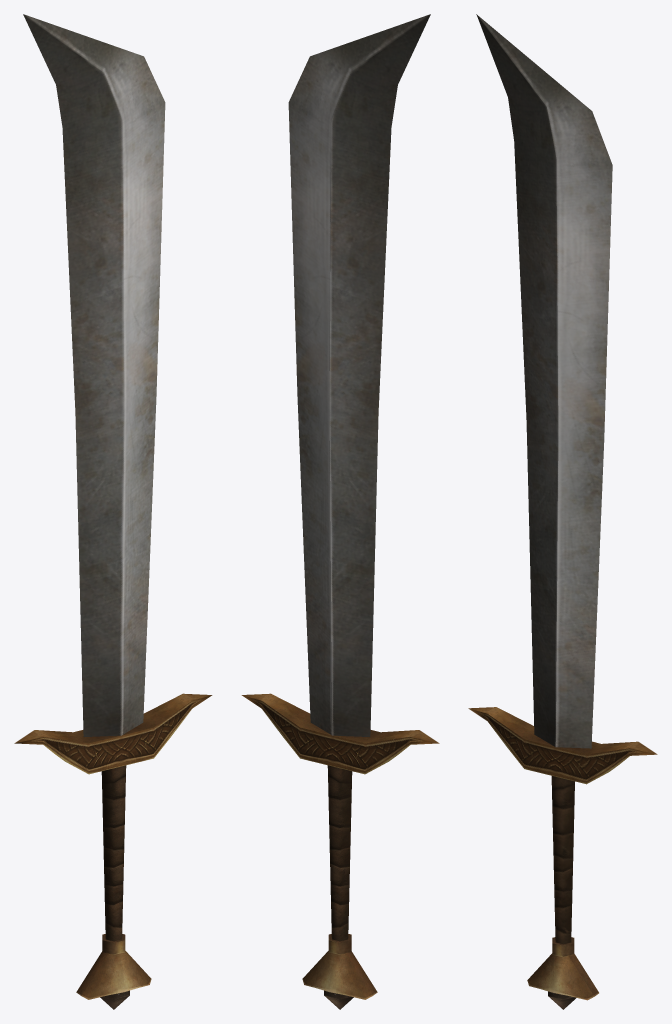
File: 29_weapon.FBX
3 views of the same model, side by side, from view 1: azimuth 30°, elevation 25°; view 2: azimuth 150°, elevation 25°; view 3: azimuth 330°, elevation 25° (orthographic). The views are drawn at different scales.
Parts seen in each view (by area): view 1: 29_sword; view 2: 29_sword; view 3: 29_sword.
Part boxes in pixels (left/top/right/bottom): 29_sword: left=14, top=14, right=212, bottom=1009; 29_sword: left=241, top=14, right=439, bottom=1009; 29_sword: left=468, top=14, right=657, bottom=1009.
Bounding box in the file's own units: 697 × 3418 × 130.
